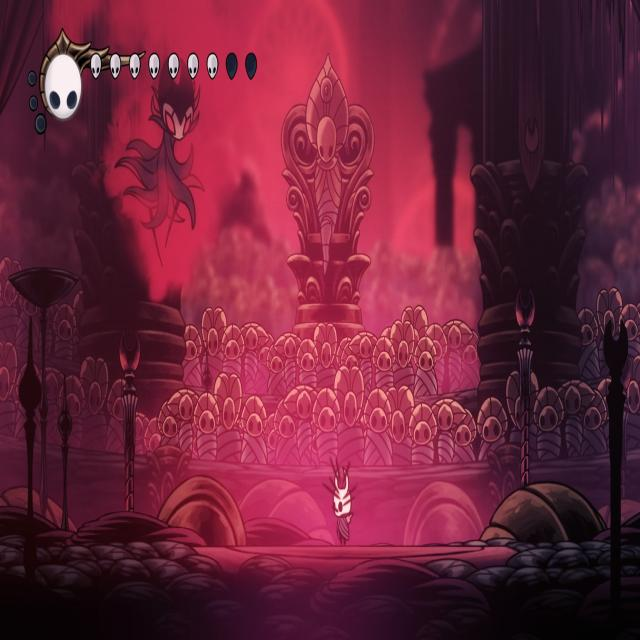Dive Dash: (112, 54, 208, 270)
Player: (332, 458, 358, 545)
